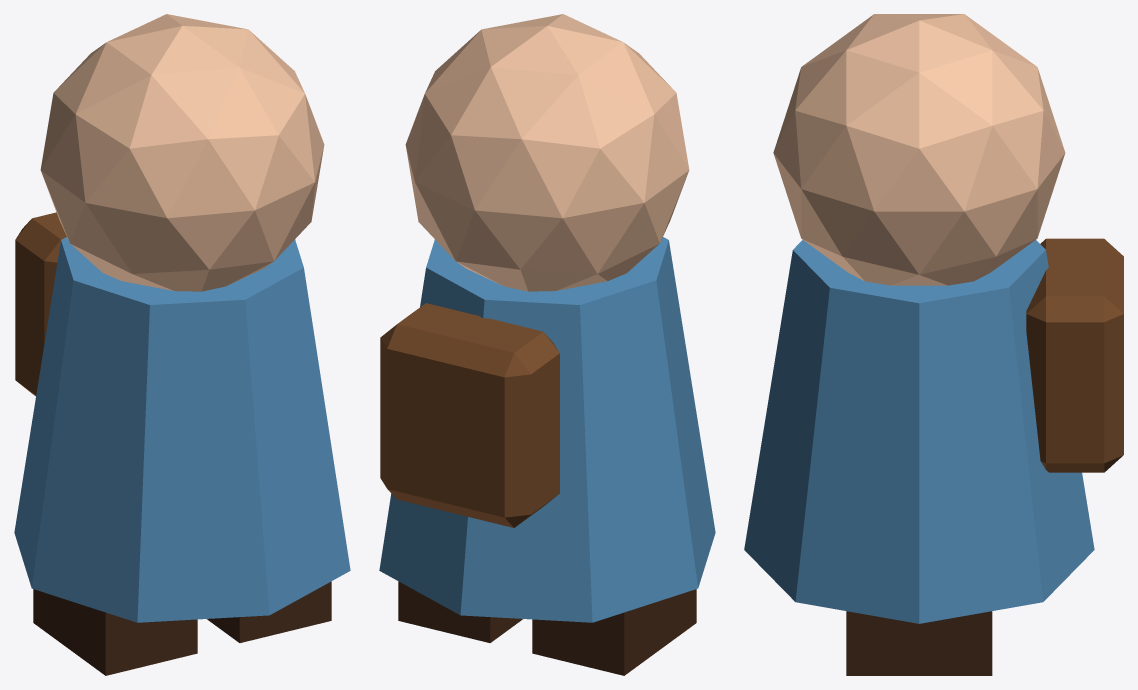
The model's file is villager.glb.
3 views of the same model, side by side, from view 1: azimuth 30°, elevation 25°; view 2: azimuth 150°, elevation 25°; view 3: azimuth 270°, elevation 25° (orthographic).
Parts seen in each view (by area): view 1: tunic, head, foot_l, pack, foot_r; view 2: tunic, head, pack, foot_l, foot_r; view 3: tunic, head, pack, foot_r.
Part boxes in pixels (left/top/right/bottom): tunic: left=14, top=237, right=350, bottom=622; head: left=40, top=14, right=324, bottom=291; foot_l: left=33, top=589, right=197, bottom=675; pack: left=15, top=212, right=66, bottom=396; foot_r: left=207, top=581, right=331, bottom=642; tunic: left=379, top=237, right=715, bottom=622; head: left=405, top=14, right=689, bottom=291; pack: left=380, top=303, right=559, bottom=527; foot_l: left=532, top=589, right=696, bottom=675; foot_r: left=398, top=581, right=522, bottom=642; tunic: left=744, top=240, right=1094, bottom=623; head: left=773, top=14, right=1065, bottom=285; pack: left=1026, top=238, right=1123, bottom=472; foot_r: left=846, top=611, right=992, bottom=675.
Size of the model in its own units: 0.36 by 0.68 by 0.39.
